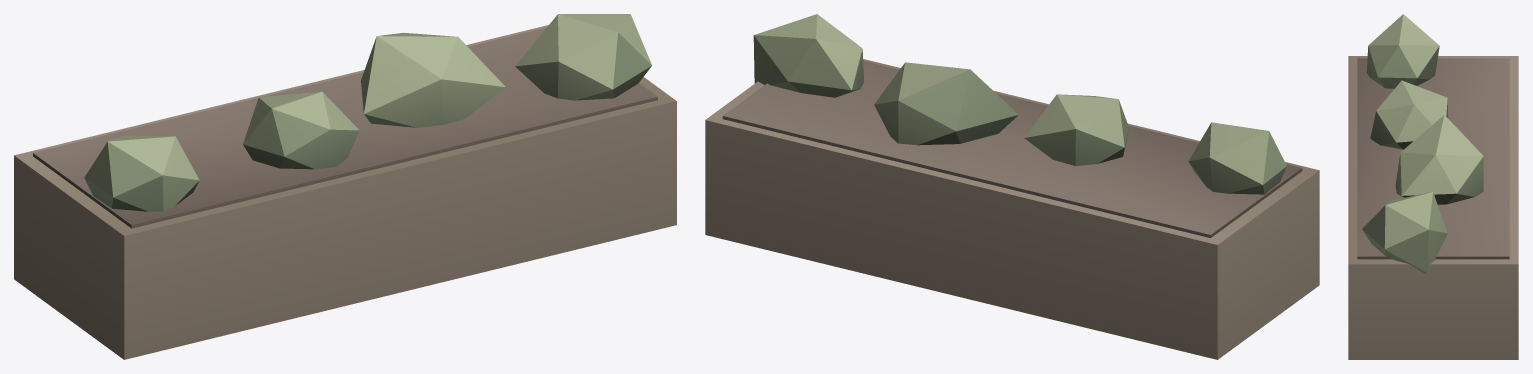
The model's file is planter.lod2.glb.
The picture shows the model from 3 angles, left to right: view 1: azimuth 30°, elevation 25°; view 2: azimuth 150°, elevation 25°; view 3: azimuth 270°, elevation 25°; orthographic projection. The views are drawn at different scales.
Bounding box in the file's own units: 1.7 × 0.5854 × 0.58.
